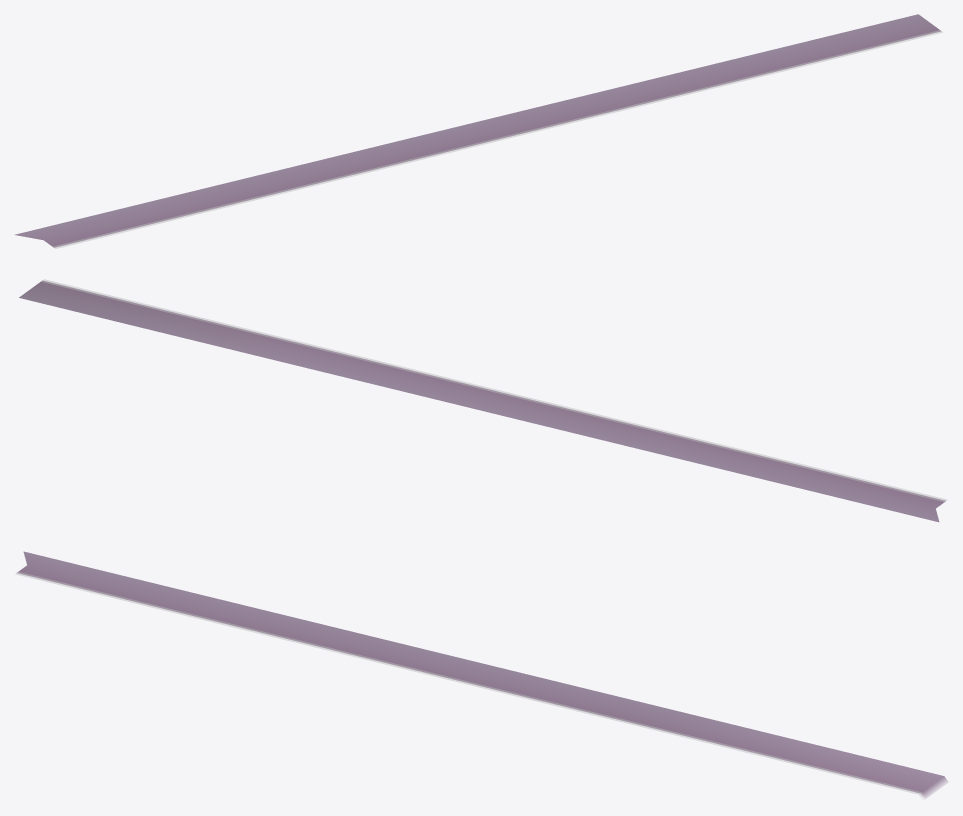
3 views of the same model, one above another, from view 1: azimuth 30°, elevation 25°; view 2: azimuth 150°, elevation 25°; view 3: azimuth 330°, elevation 25° (orthographic).
Visible parts, largest first — view 1: Joint_0_Object_0; view 2: Joint_0_Object_0; view 3: Joint_0_Object_0.
Part boxes in pixels (left/top/right/bottom): Joint_0_Object_0: left=15, top=14, right=941, bottom=247; Joint_0_Object_0: left=19, top=280, right=945, bottom=521; Joint_0_Object_0: left=17, top=551, right=947, bottom=797.
Bounding box in the file's own units: 3851 × 19.95 × 190.
1 material, 1 textured.
